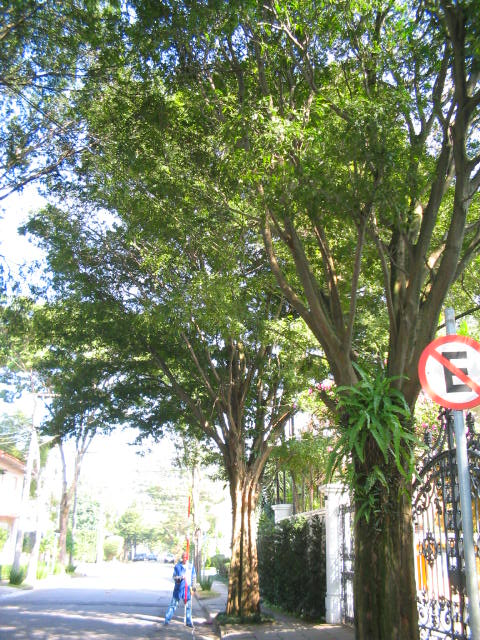crown: (3, 84, 350, 467)
stem: (322, 416, 449, 640), (213, 471, 277, 622)
stick: (177, 495, 196, 625)
tree: (1, 81, 351, 625)
